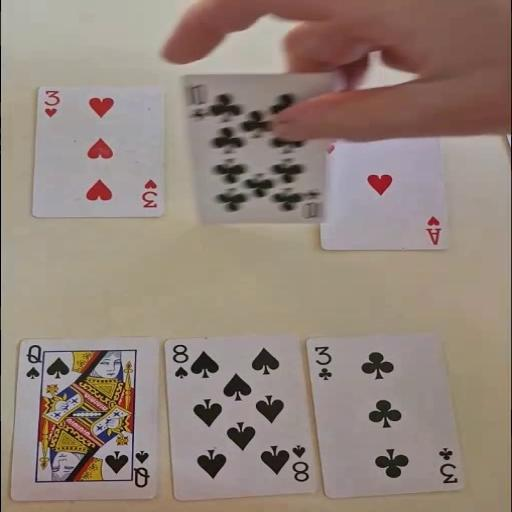3: (436, 445, 460, 484), (312, 344, 334, 381), (138, 176, 158, 208), (41, 88, 61, 118)
8: (288, 442, 310, 483), (171, 342, 190, 379)
A: (424, 214, 442, 245)
Q: (130, 448, 151, 489), (23, 343, 43, 380)
